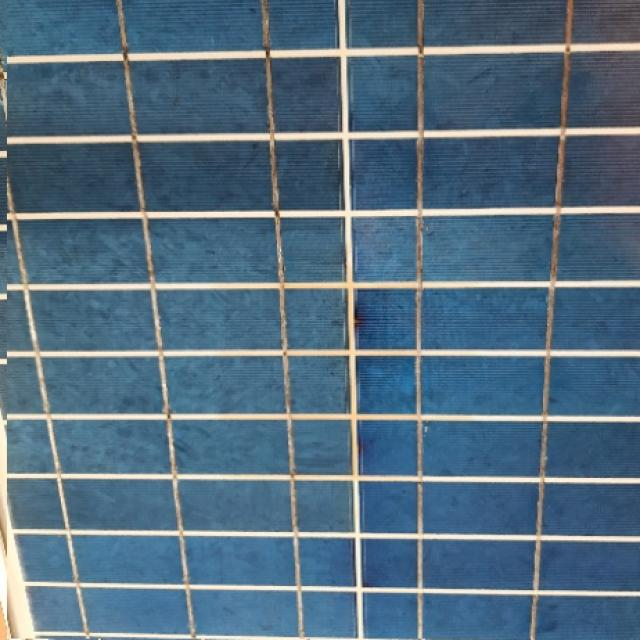Clean: (7, 0, 640, 639)
